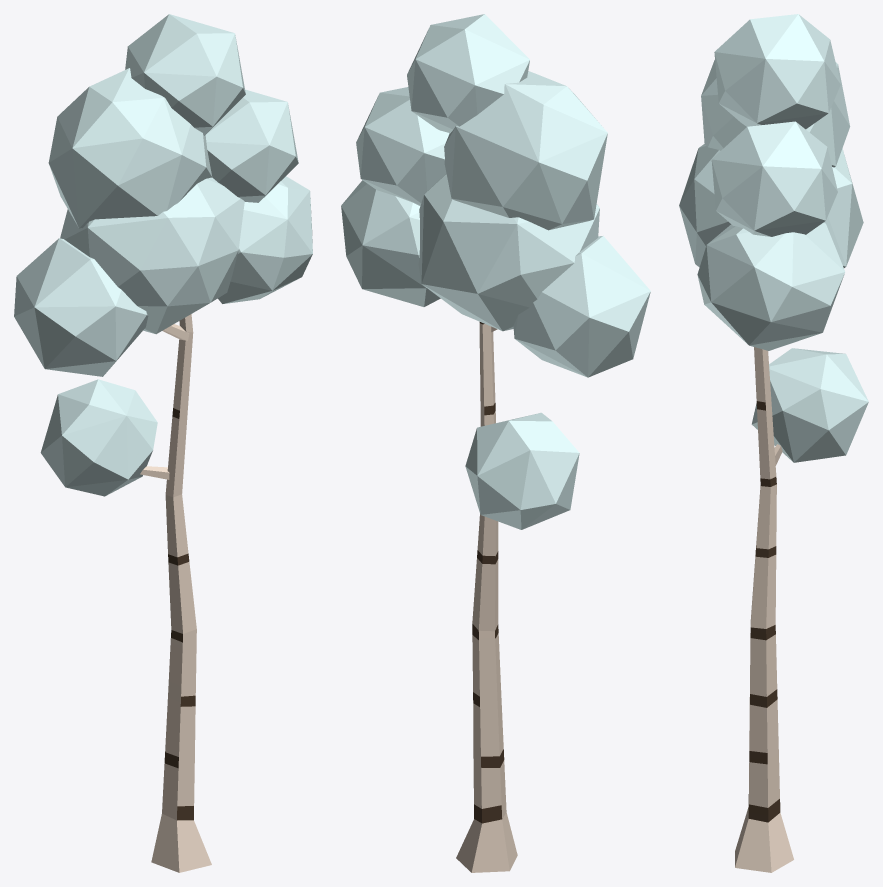
Rendered from tree-birch-tall_white.glb.
3 views of the same model, side by side, from view 1: azimuth 30°, elevation 25°; view 2: azimuth 150°, elevation 25°; view 3: azimuth 270°, elevation 25° (orthographic). The views are drawn at different scales.
Visible parts, largest first — view 1: tree-birch-tall_winter; view 2: tree-birch-tall_winter; view 3: tree-birch-tall_winter.
Boxes of the visible parts, x1,y1,x2,y2 form: tree-birch-tall_winter: (14,14,312,872); tree-birch-tall_winter: (341,14,650,872); tree-birch-tall_winter: (679,14,868,872).
Size of the model in its own units: 2.89 by 7.96 by 1.62.
1 material, 1 textured.
